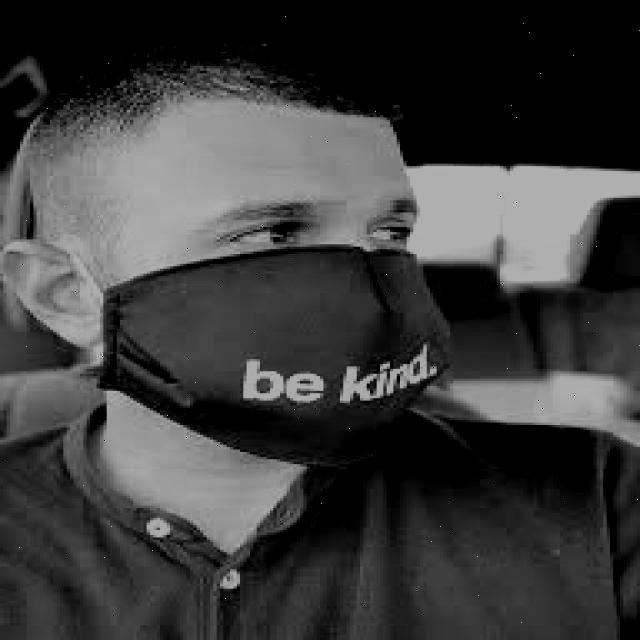fake: (50, 237, 484, 496)
real: (103, 105, 424, 479)
